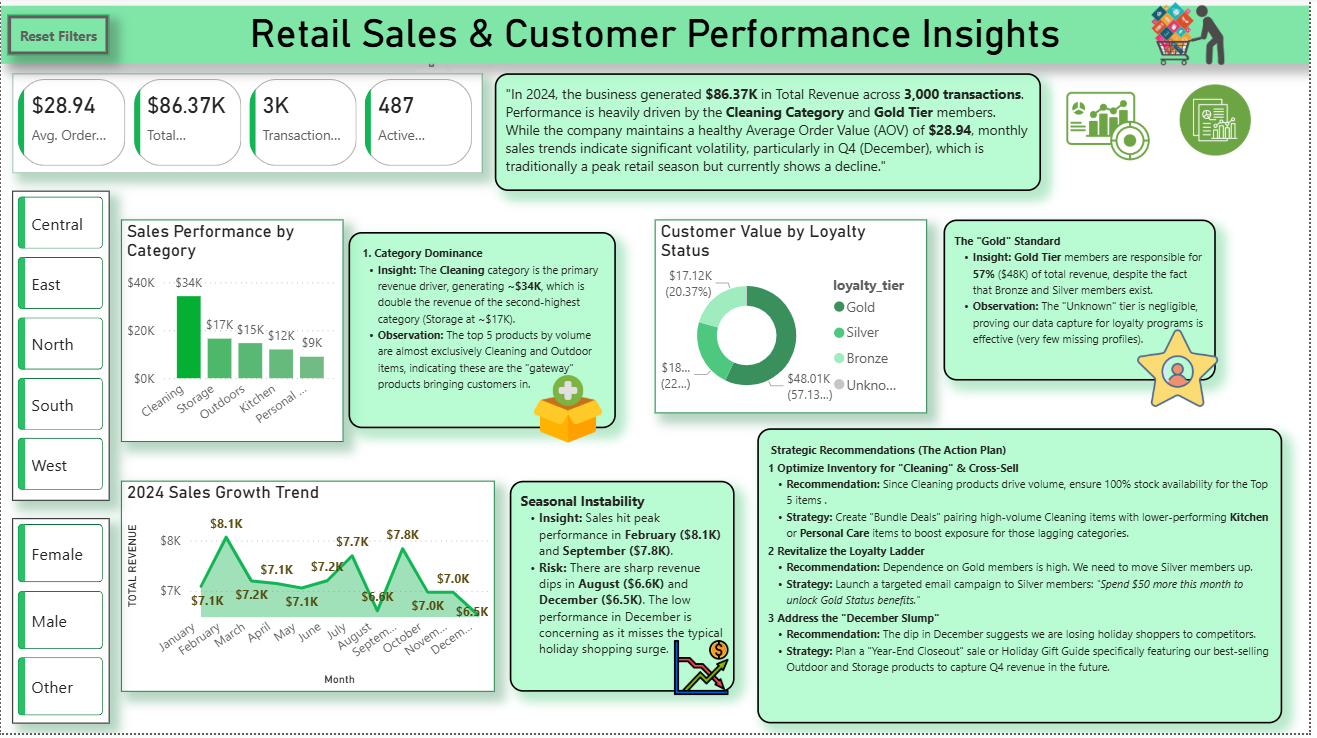

Layout of this report page (visuals, bound fields, positions):
{"tool":"powerbi","page":{"name":"Insight Report","canvas":[1280,720],"ordinal":1},"visuals":[{"type":"cardVisual","fields":{"Data":["CALENDER.AVERAGE_ORDER_VALUE","CALENDER.TOTAL REVENUE","CALENDER.TOTAL_TRANSACTIONS","CALENDER.TOTAL_CUSTOMER"]},"box":[11,74.6,459.8,97.8],"z":0},{"type":"lineChart","title":"2024 Sales Growth Trend ","fields":{"Category":["CALENDER.Date.Variation.Date Hierarchy.Month"],"Y":["CALENDER.TOTAL REVENUE"]},"box":[117.4,473.2,365.6,206.7],"z":1000},{"type":"columnChart","title":" Sales Performance by Category","fields":{"Category":["product_info.category"],"Y":["CALENDER.TOTAL REVENUE"]},"box":[117.4,217.7,217.7,217.7],"z":2000},{"type":"textbox","box":[0,8.4,1280,56.7],"z":3000},{"type":"image","box":[1083.5,0,135.3,74],"z":4000},{"type":"donutChart","title":" Customer Value by Loyalty Status","fields":{"Category":["customer_info.loyalty_tier"],"Y":["CALENDER.TOTAL REVENUE"]},"box":[639.5,217.7,266.6,189.5],"z":5000},{"type":"advancedSlicerVisual","fields":{"Values":["customer_info.gender"]},"box":[11.4,509.7,95.4,200.8],"z":6000},{"type":"advancedSlicerVisual","fields":{"Values":["sales_data.region"]},"box":[11.4,189.4,95.4,303.3],"z":7000},{"type":"actionButton","box":[6.1,17.1,100.3,40.4],"z":8000},{"type":"image","box":[1017.4,80.7,130.8,91.7],"z":9000},{"type":"image","box":[1148.2,80.7,79.5,79.5],"z":10000},{"type":"textbox","box":[483,74.6,534.4,114.9],"z":11000},{"type":"textbox","box":[339.9,229.9,261.7,192],"z":12000},{"type":"textbox","box":[922,217.7,266.6,157.7],"z":13000},{"type":"textbox","box":[497.7,473.2,220.1,206.7],"z":14000},{"type":"textbox","box":[739.8,421.9,513.6,288.6],"z":15000},{"type":"image","box":[527,359.5,94.2,83.2],"z":16000},{"type":"image","box":[1099.3,321.6,89.3,100.3],"z":17000},{"type":"image","box":[651.8,633.4,66,64.8],"z":18000}]}

Visuals, with their boxes in screenshot pixels (x1, y1, x2, y2), scaled from the page's 1280x720 canvas onto the 1317x738 screenshot:
cardVisual - CALENDER.AVERAGE_ORDER_VALUE x CALENDER.TOTAL REVENUE: select_region(11, 76, 484, 177)
"2024 Sales Growth Trend " lineChart: select_region(121, 485, 497, 697)
" Sales Performance by Category" columnChart: select_region(121, 223, 345, 446)
textbox: select_region(0, 9, 1316, 67)
image: select_region(1115, 0, 1254, 76)
" Customer Value by Loyalty Status" donutChart: select_region(658, 223, 932, 417)
advancedSlicerVisual - customer_info.gender: select_region(12, 522, 110, 728)
advancedSlicerVisual - sales_data.region: select_region(12, 194, 110, 505)
actionButton: select_region(6, 18, 109, 59)
image: select_region(1047, 83, 1181, 177)
image: select_region(1181, 83, 1263, 164)
textbox: select_region(497, 76, 1047, 194)
textbox: select_region(350, 236, 619, 432)
textbox: select_region(949, 223, 1223, 385)
textbox: select_region(512, 485, 739, 697)
textbox: select_region(761, 432, 1290, 728)
image: select_region(542, 368, 639, 454)
image: select_region(1131, 330, 1223, 432)
image: select_region(671, 649, 739, 716)
